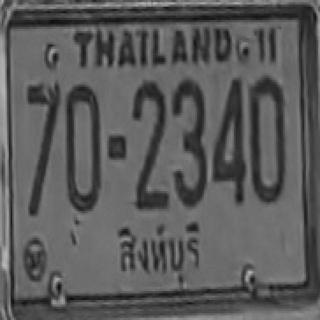N00: (248, 74, 285, 201), (65, 82, 100, 211)
N02: (133, 81, 168, 208), (132, 81, 167, 201)
N03: (171, 78, 206, 204)
N04: (211, 76, 244, 202)
N07: (26, 82, 60, 213)
P62: (116, 219, 203, 287)
